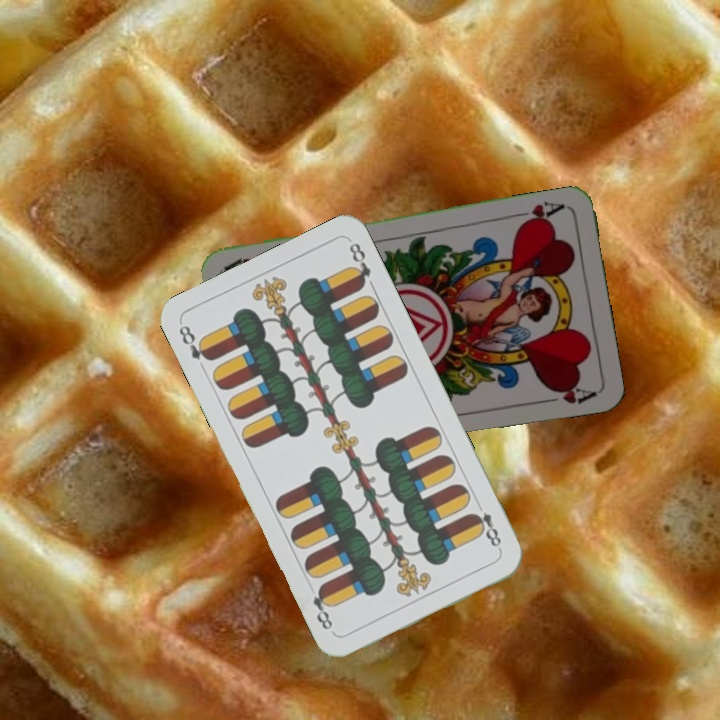E8: (467, 497, 504, 553), (175, 321, 215, 364)
HA: (510, 197, 567, 229)
